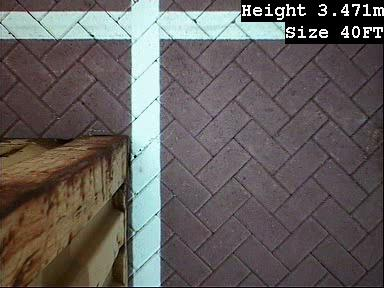groundmarker_2: (82, 194, 157, 240)
